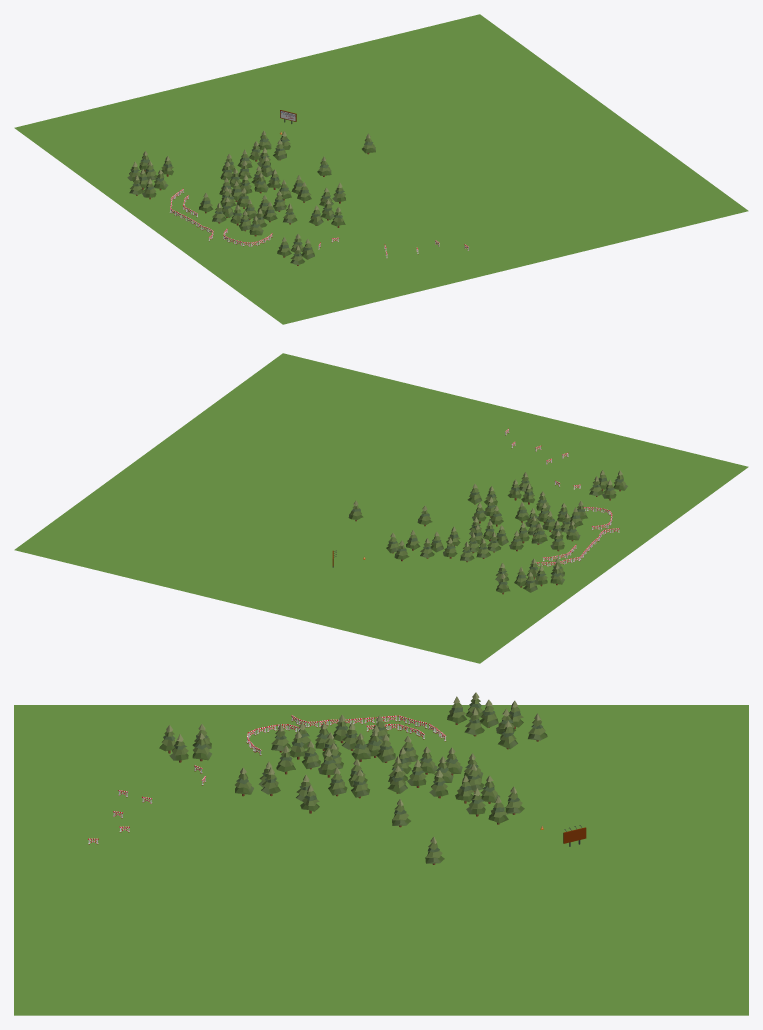
File: Environment.obj
3 renders of one model, top to bottom at view 1: azimuth 30°, elevation 25°; view 2: azimuth 150°, elevation 25°; view 3: azimuth 270°, elevation 25°, orthographic. The views are drawn at different scales.
Parts seen in each view (by area): view 1: Ground; view 2: Ground; view 3: Ground.
Boxes of the visible parts, x1=… form: Ground: x1=14, y1=14, x2=748, y2=324; Ground: x1=14, y1=353, x2=748, y2=663; Ground: x1=14, y1=705, x2=748, y2=1015.
Bounding box in the file's own units: 717 × 33.49 × 717.
